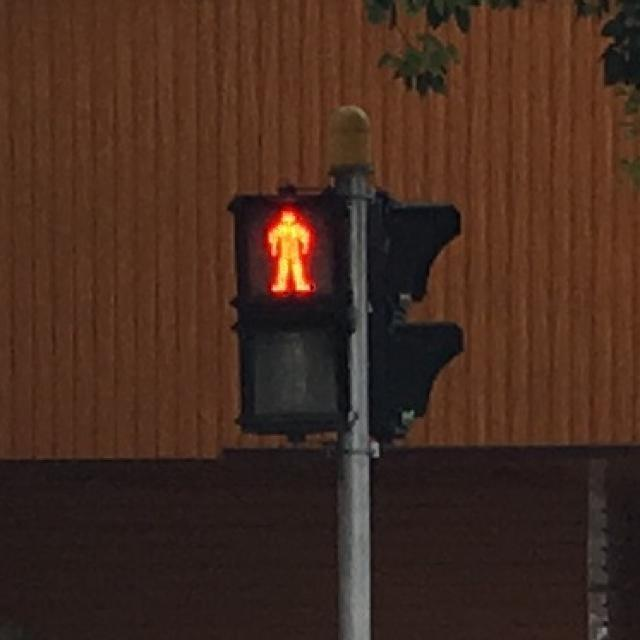red-crossing: (248, 200, 334, 306)
